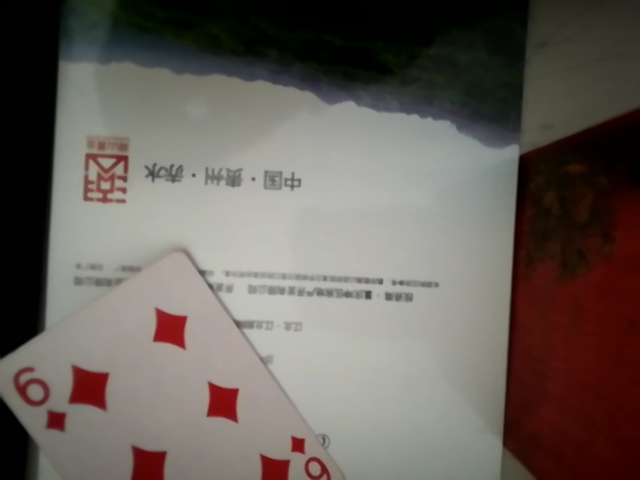fk 6: (3, 243, 354, 480)
